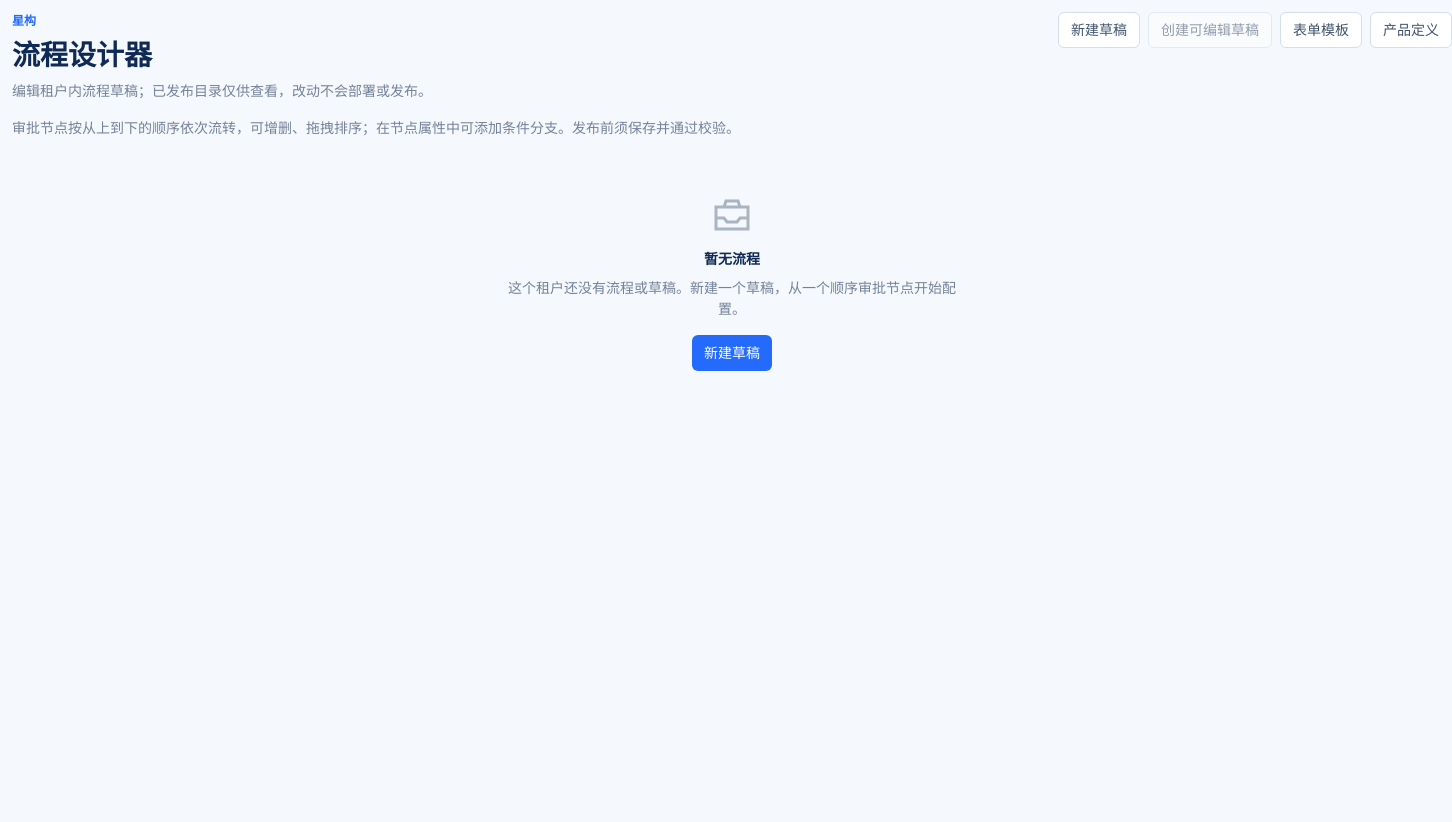
process viewer › shows an empty state with a next step when the tenant has no processes (N4)
Check: the message with test id "process-empty" shows "暂无流程", box [704,250,760,267]
Check: the message with test id "process-empty" shows "新建一个草稿", box [508,279,956,317]
Step 1. Click the button with test id "process-empty-new" → (732, 353), box [692,335,772,371]
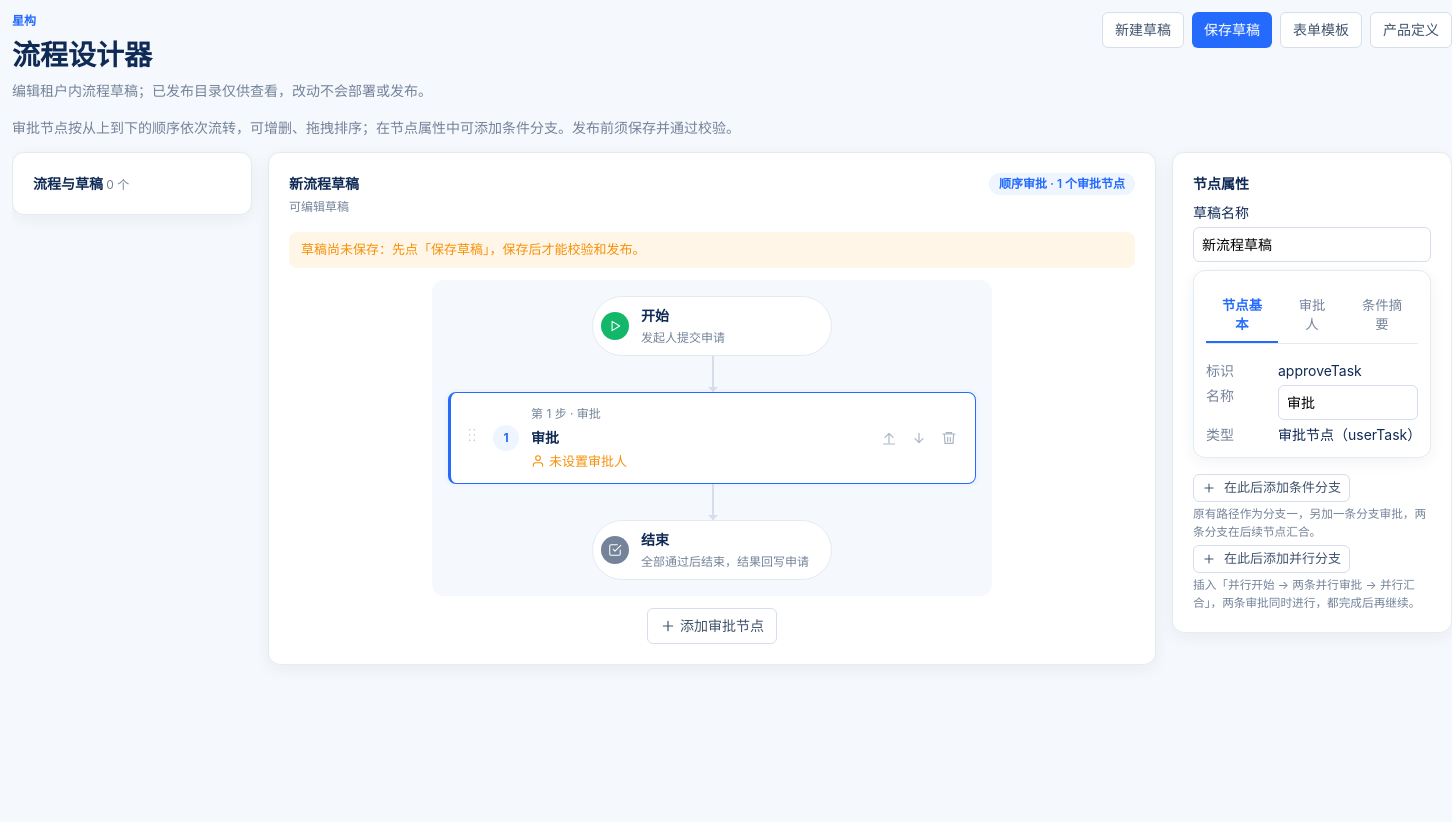
Check: the number of buttons with test id "process-node" is 3, box [592,296,832,356]; [448,392,976,484]; [592,520,832,580]
Check: the text with test id "draft-state" shows "保存后才能校验和发布", box [301,241,646,257]
